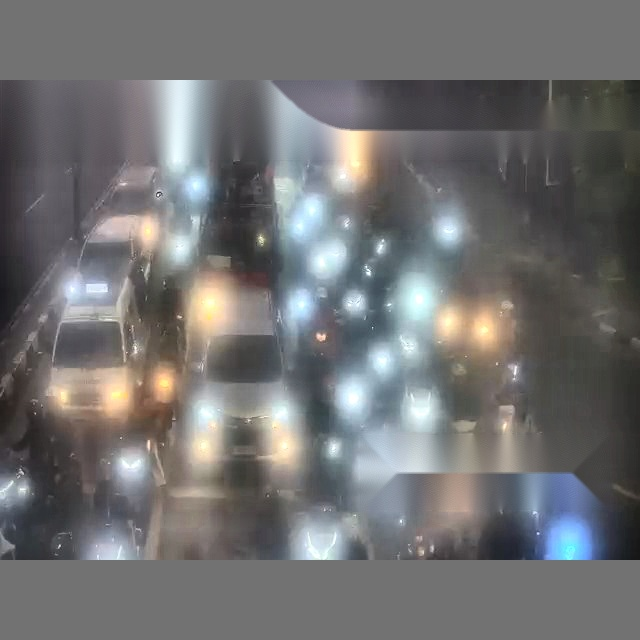Motor: (0, 448, 31, 557)
